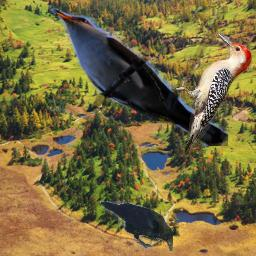Crow: (100, 201, 173, 251)
Cuckoo: (49, 6, 228, 146)
Woodpecker: (171, 32, 254, 156)
